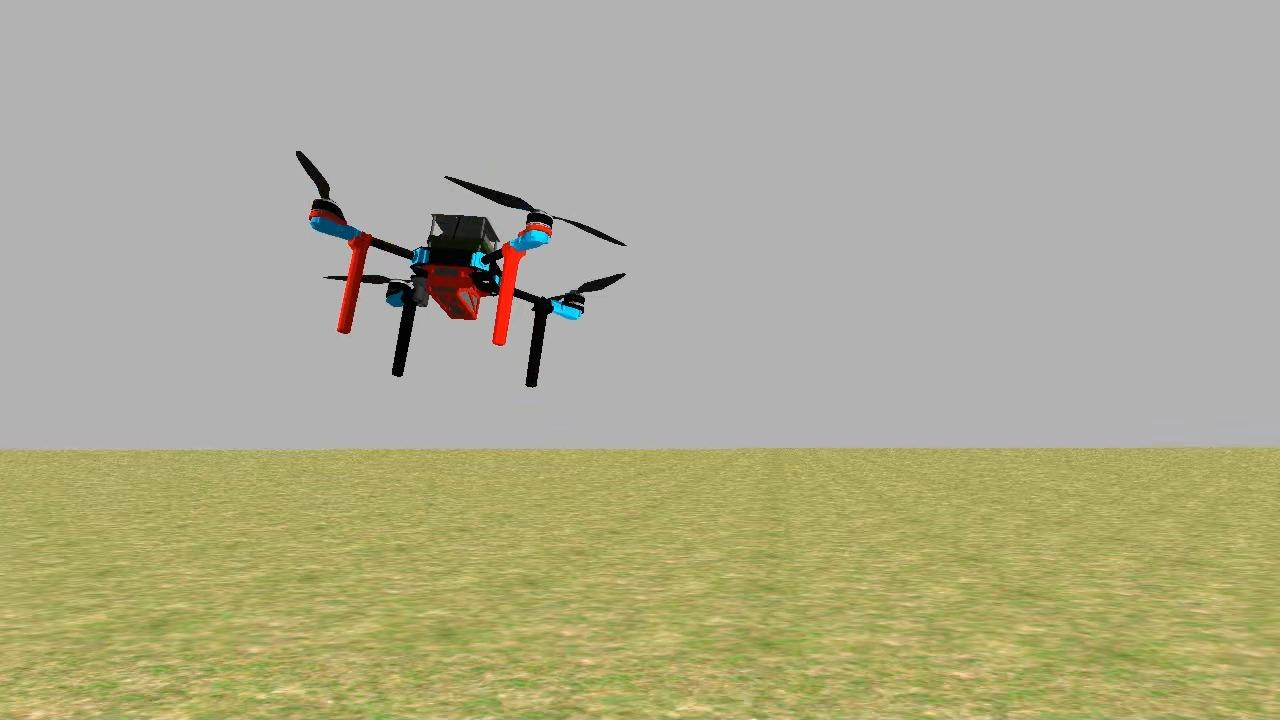UAV: (284, 174, 628, 396)
